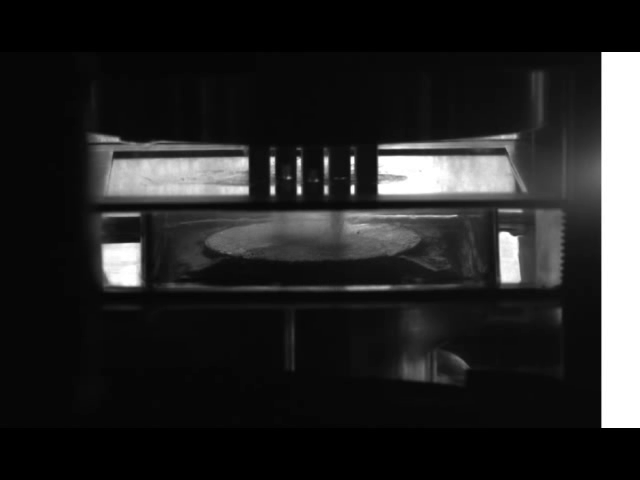Zona de teste: (205, 217, 422, 270)
